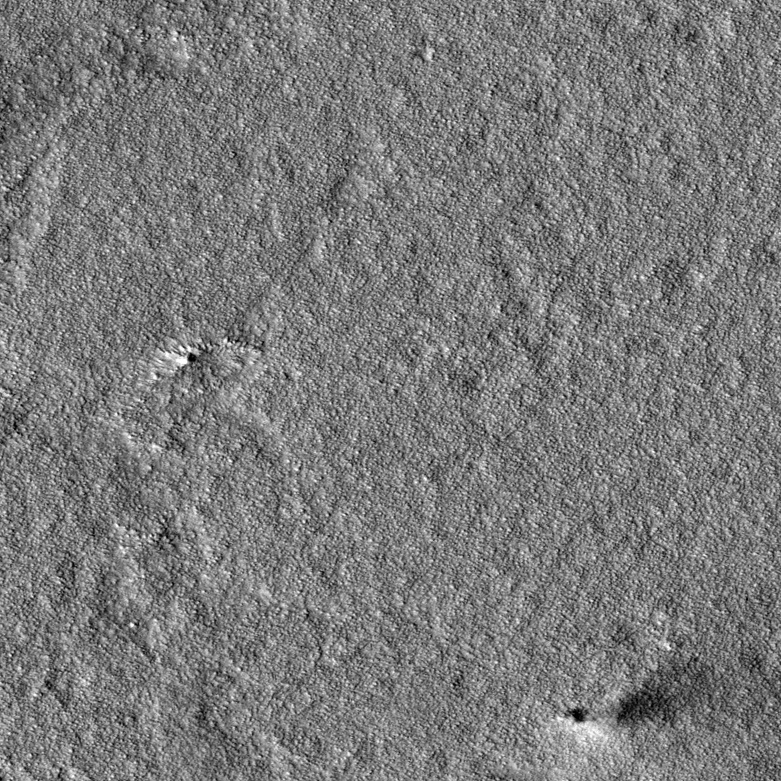dust_devil: (559, 664, 707, 748)
